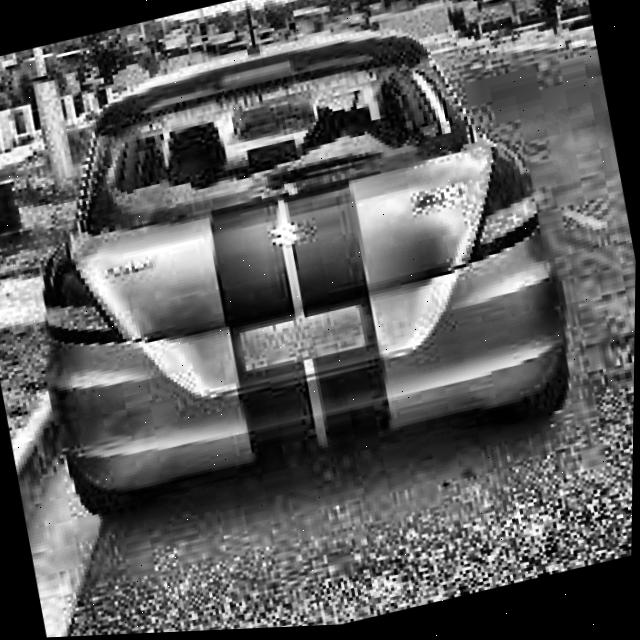glass_shatter: (101, 49, 441, 230)
